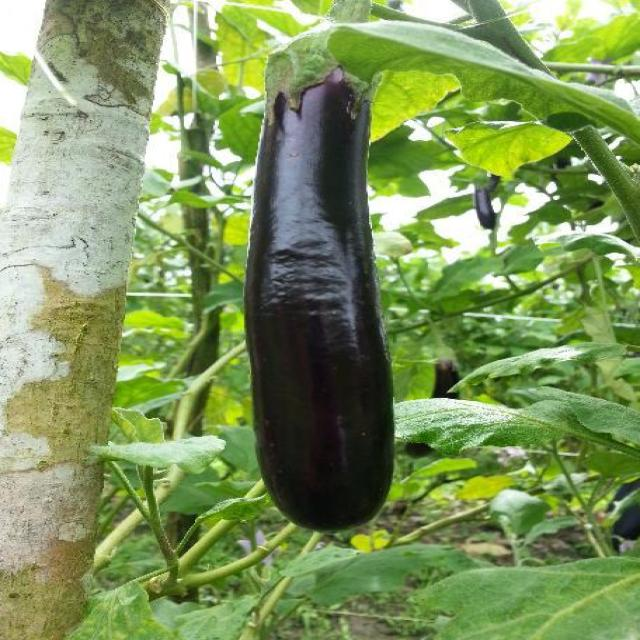eggplant: (240, 18, 394, 536)
